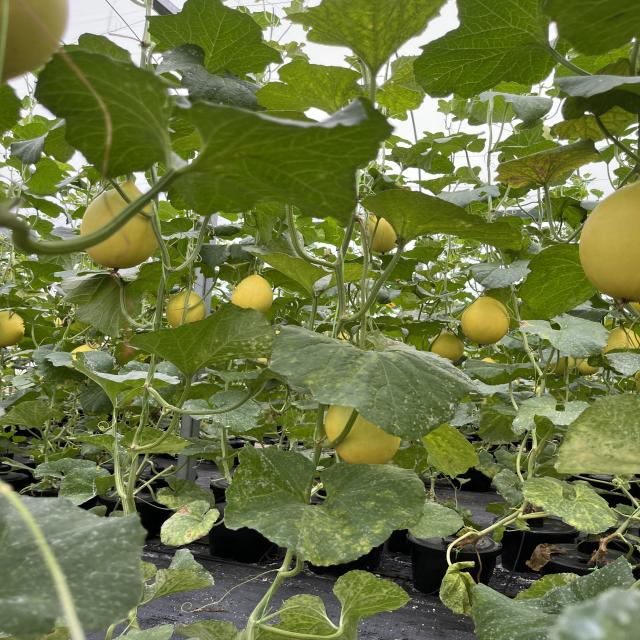CMV: (265, 316, 480, 438), (223, 434, 425, 556), (368, 183, 526, 256), (140, 297, 272, 373), (280, 570, 418, 640), (539, 384, 640, 473), (298, 0, 442, 52), (519, 470, 620, 534), (159, 500, 220, 549)
alternaria leaf blight: (485, 137, 597, 190)
downy mildew: (251, 58, 360, 116)
healthy: (424, 0, 554, 97)
